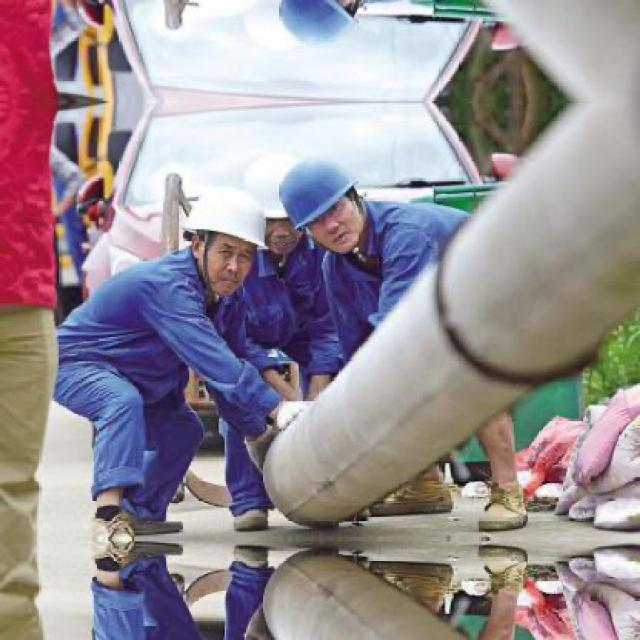con casco: (110, 188, 276, 316), (269, 143, 409, 270), (245, 147, 328, 239)
